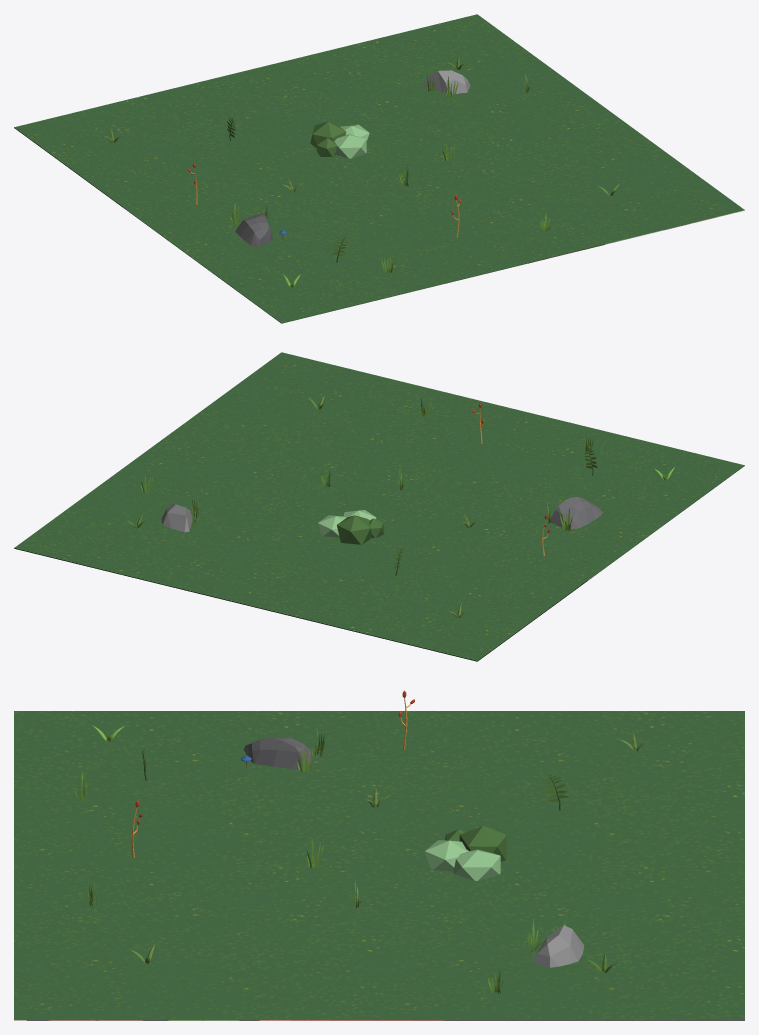
3 views of the same model, one above another, from view 1: azimuth 30°, elevation 25°; view 2: azimuth 150°, elevation 25°; view 3: azimuth 270°, elevation 25° (orthographic). The views are drawn at different scales.
Visible parts, largest first — view 1: EP_05; view 2: EP_05; view 3: EP_05.
Part boxes in pixels (left/top/right/bottom): EP_05: left=14, top=14, right=744, bottom=323; EP_05: left=14, top=352, right=744, bottom=661; EP_05: left=14, top=690, right=744, bottom=1020.
Size of the model in its own units: 16 by 1.76 by 16.
Materials: 1 (1 with a texture image).
